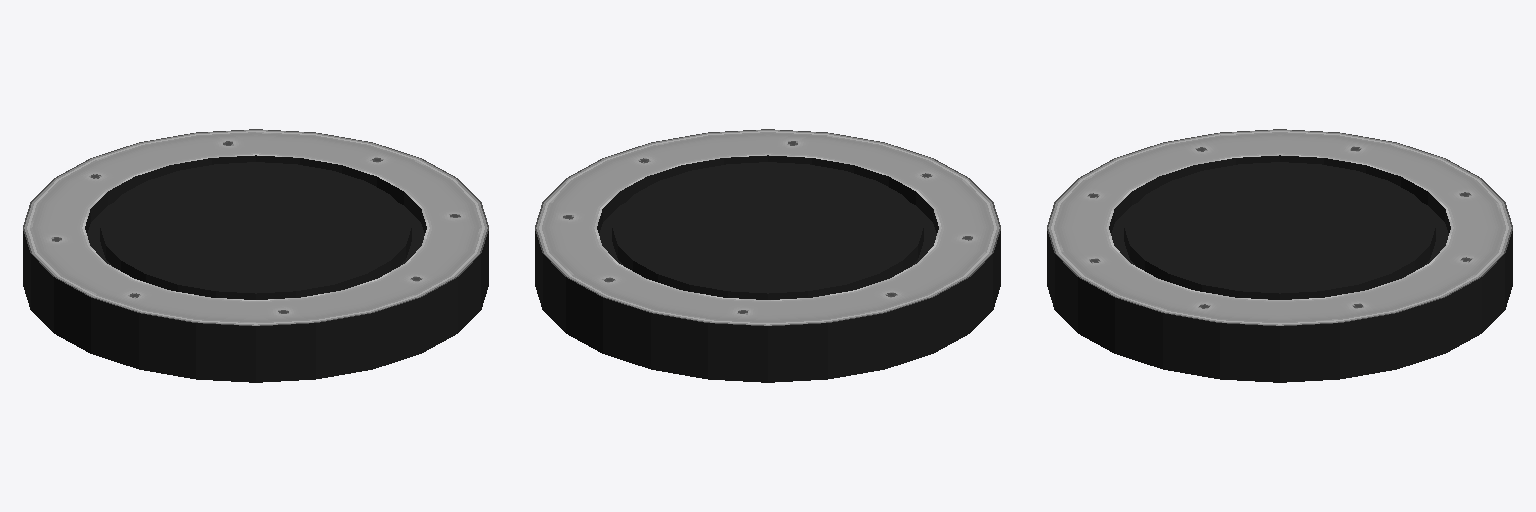
3 views of the same model, side by side, from view 1: azimuth 30°, elevation 25°; view 2: azimuth 150°, elevation 25°; view 3: azimuth 270°, elevation 25° (orthographic).
Visible parts, largest first — view 1: Arrow_Decoupler_0p5_1; view 2: Arrow_Decoupler_0p5_1; view 3: Arrow_Decoupler_0p5_1.
Part boxes in pixels (left/top/right/bottom): Arrow_Decoupler_0p5_1: left=23, top=129, right=488, bottom=382; Arrow_Decoupler_0p5_1: left=535, top=129, right=1000, bottom=382; Arrow_Decoupler_0p5_1: left=1047, top=129, right=1512, bottom=382.
Size of the model in its own units: 0.9375 by 0.125 by 0.9375.
1 materials, 1 textured.